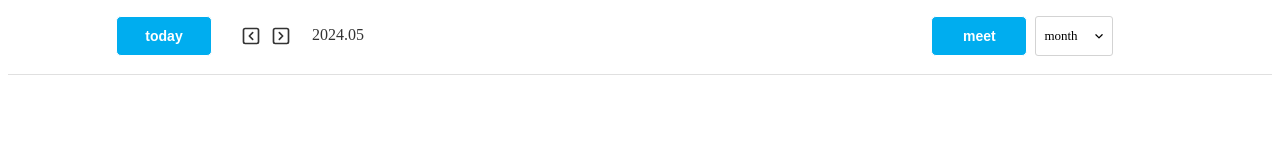
view selecetor test › view selecetor test
Click the text "month".
click(1061, 36)  # box x1=1044 y1=28 x2=1078 y2=43
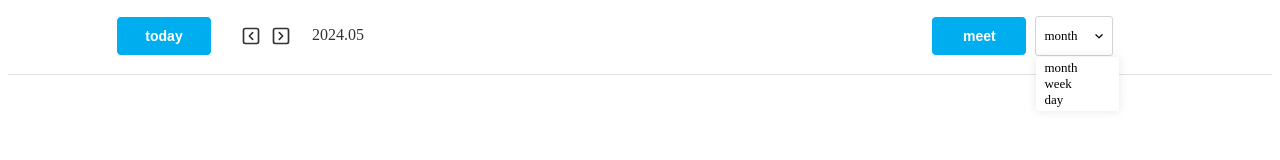
Expected: the text "week" is shown, x1=1044 y1=76 x2=1072 y2=91
